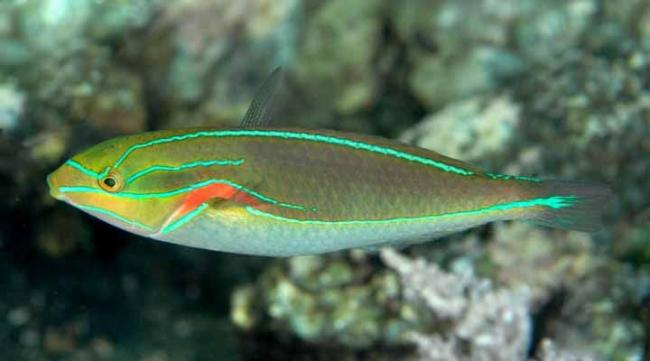fish: (46, 67, 612, 258)
